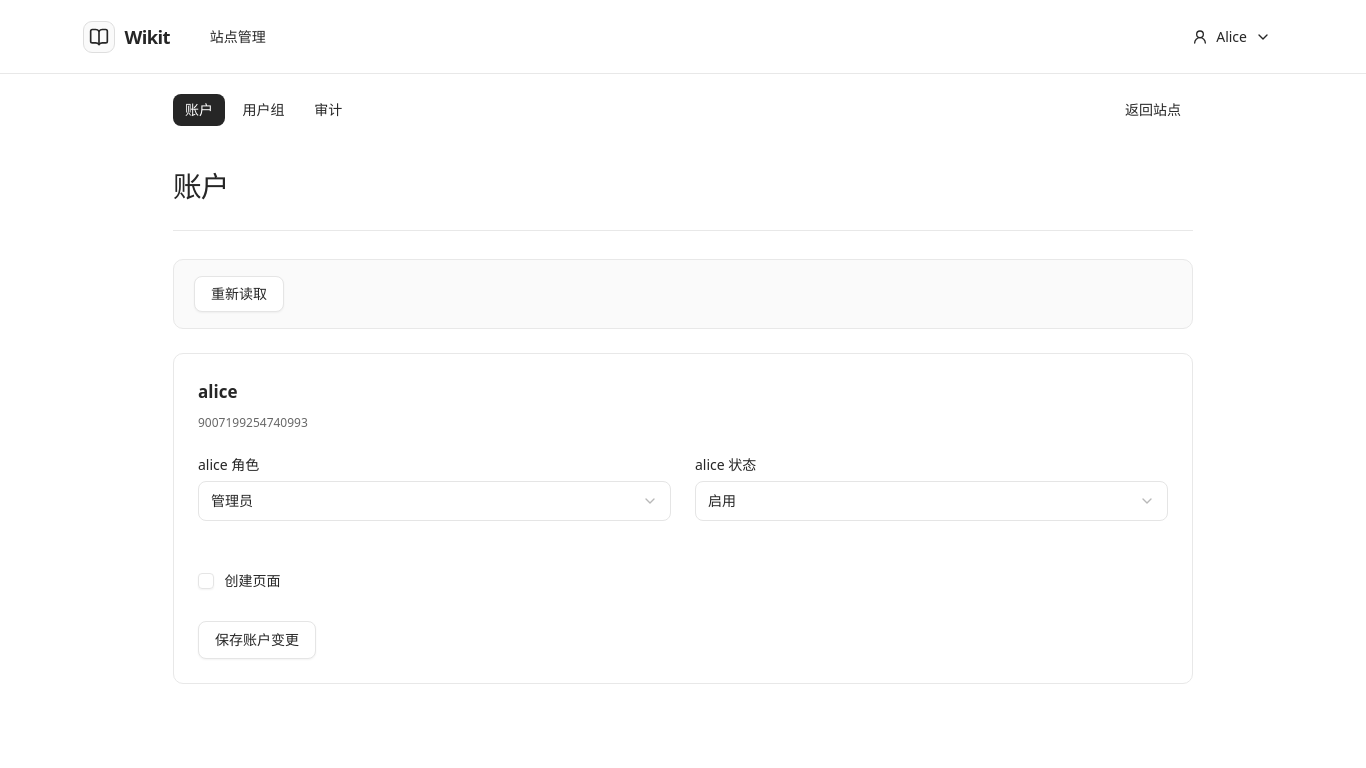
Scenario: edits account role and group members using server-provided version conditions
Expected: the heading "alice" is shown, x1=198 y1=380 x2=237 y2=403
Step 1. Click the dropdown named "alice 角色" → (232, 501), box x1=198 y1=481 x2=671 y2=521
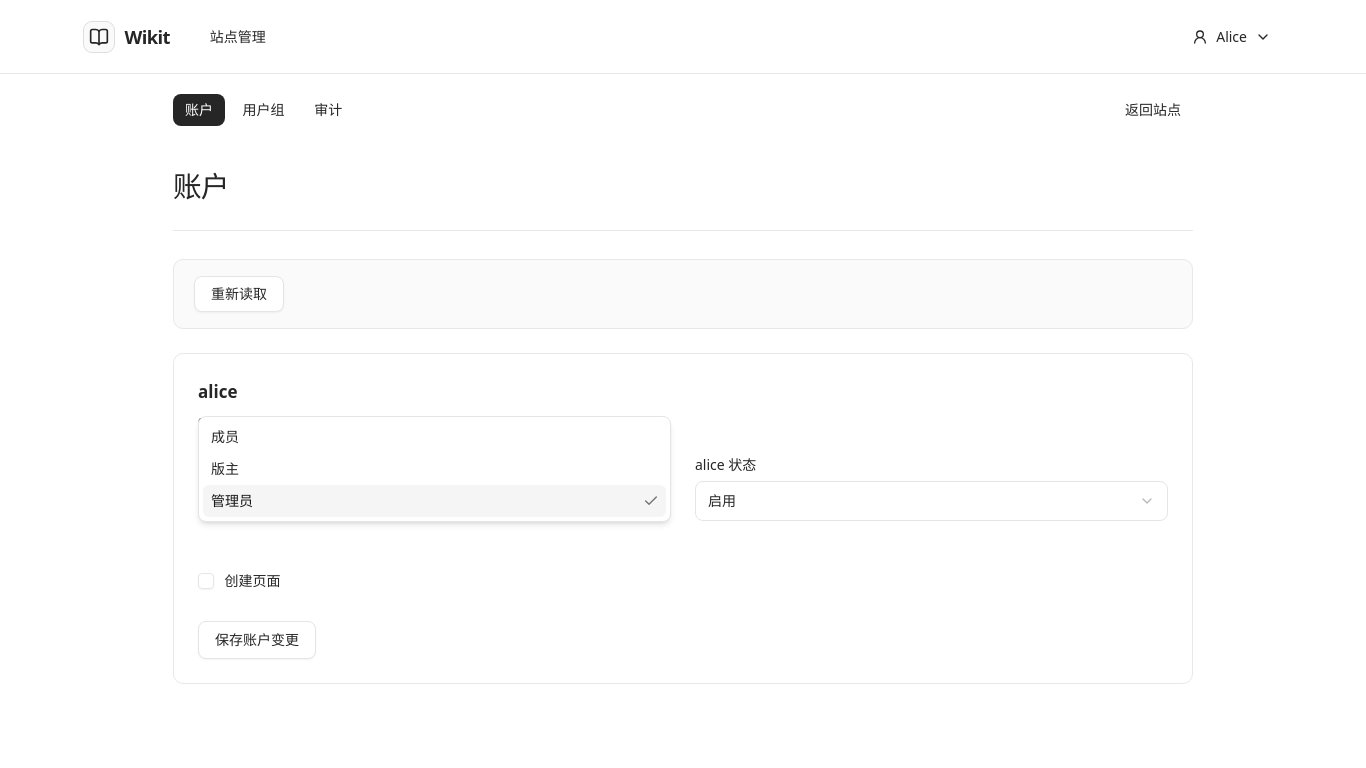
Step 2. Click the option "版主" → (225, 469), box x1=211 y1=459 x2=239 y2=478
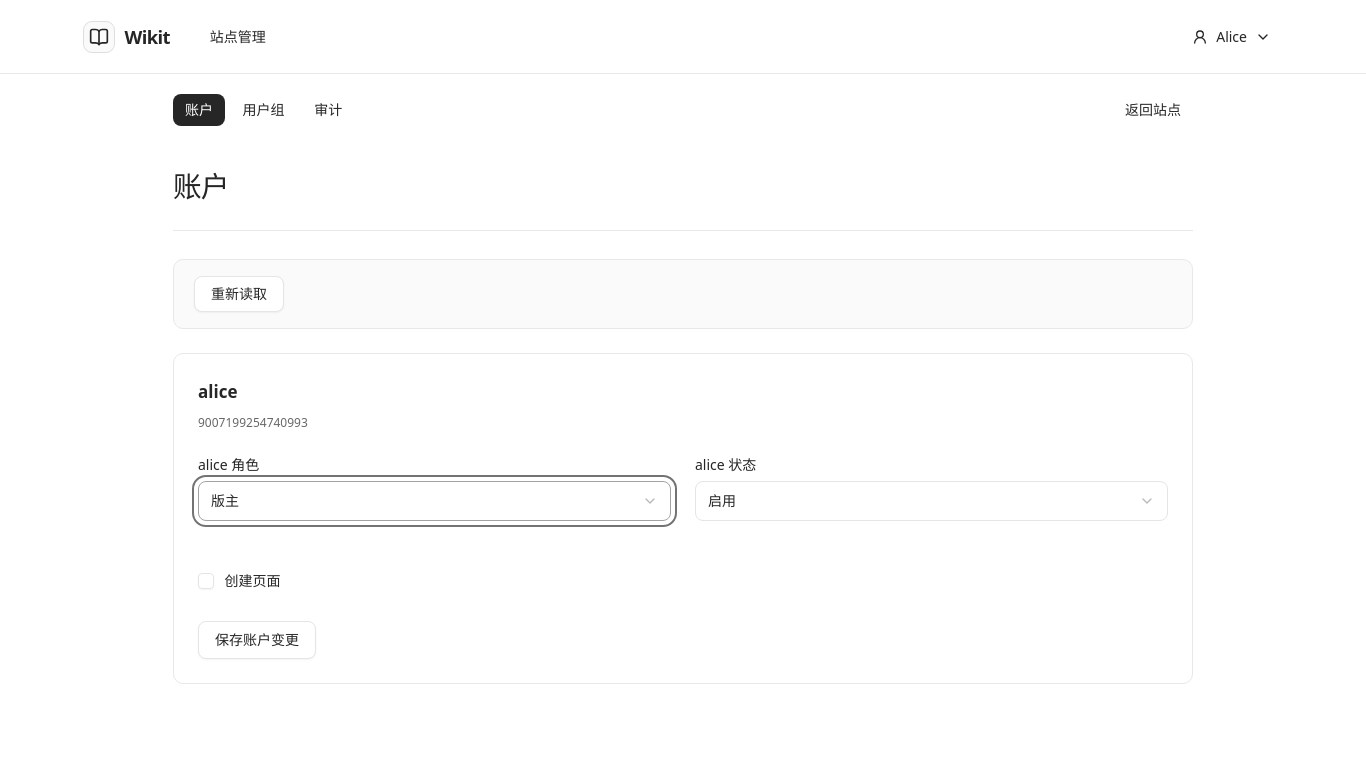
Step 3. Click the button "保存账户变更" → (257, 640), box x1=198 y1=621 x2=316 y2=659
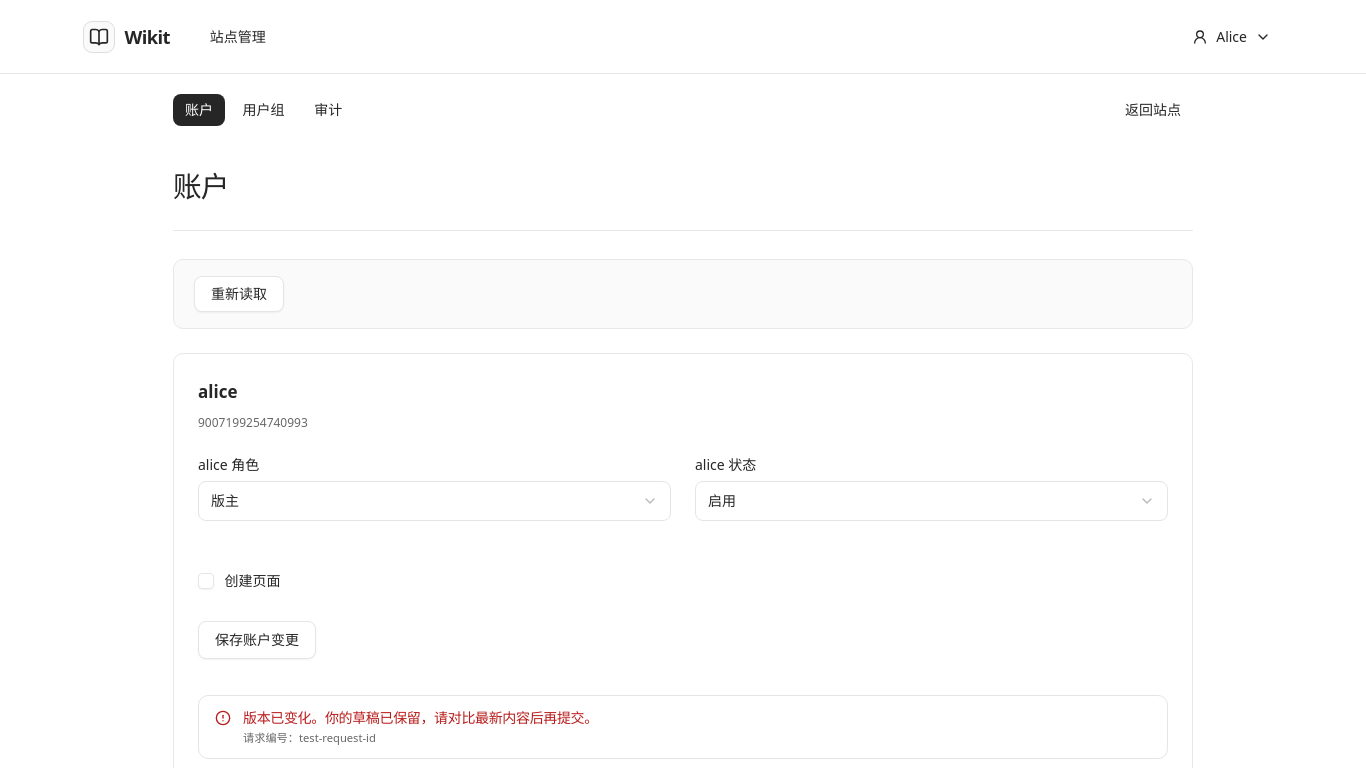
Expected: the text "版本已变化。你的草稿已保留，请对比最新内容后再提交。" is shown, x1=243 y1=708 x2=598 y2=727
Step 4. Click the link "用户组" → (264, 110), box x1=243 y1=100 x2=285 y2=119
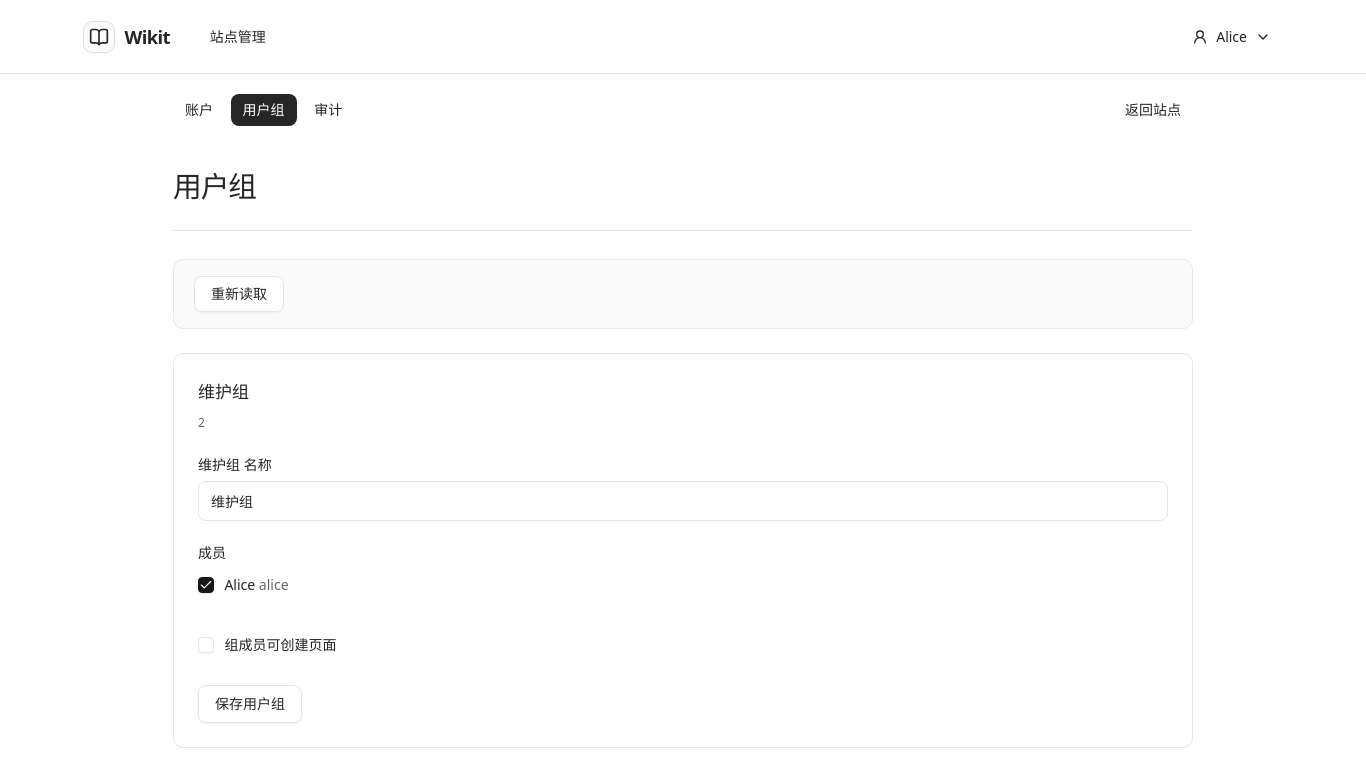
Expected: the heading "维护组" is shown, x1=198 y1=380 x2=249 y2=403
Step 5. Click the 1st checkbox named "alice" → (206, 585), box x1=198 y1=577 x2=214 y2=593
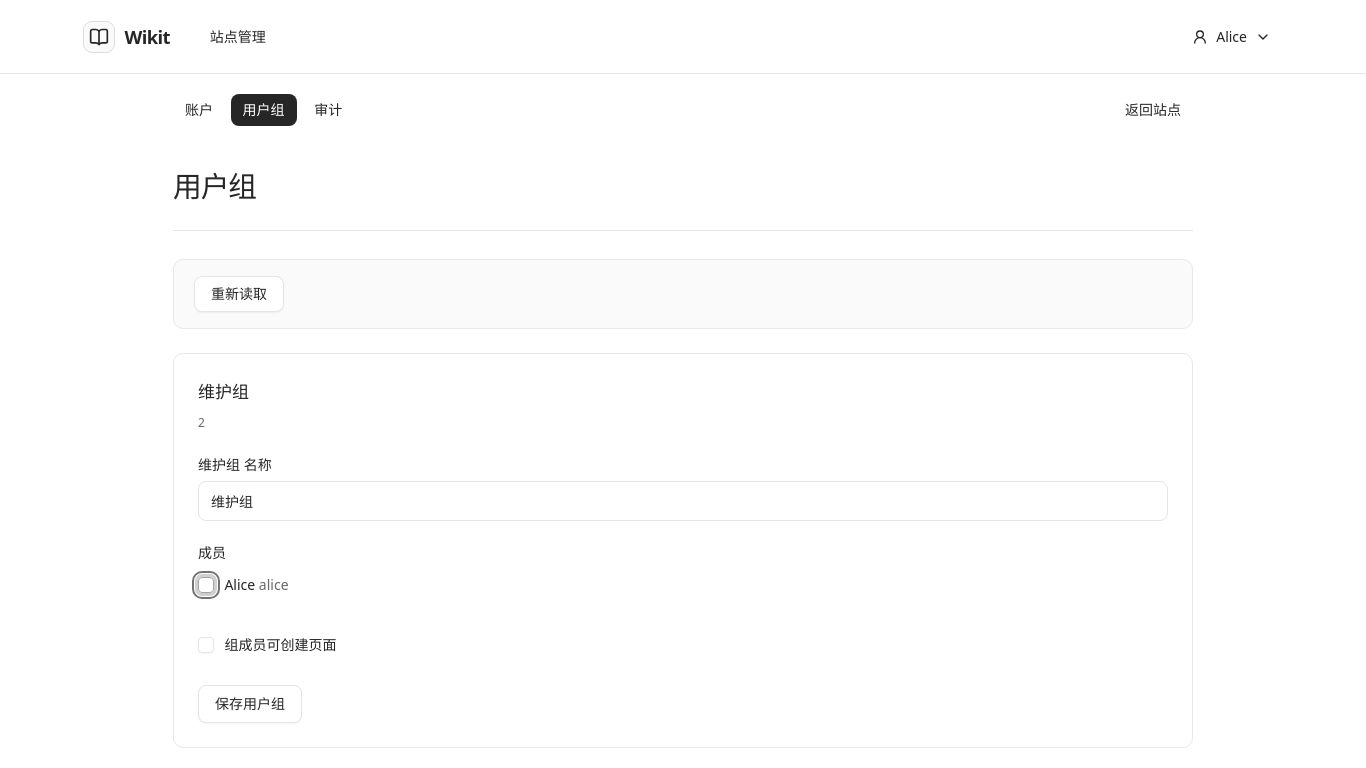
Step 6. Click the button "保存用户组" → (250, 704), box x1=198 y1=685 x2=302 y2=723
(page scrolled)
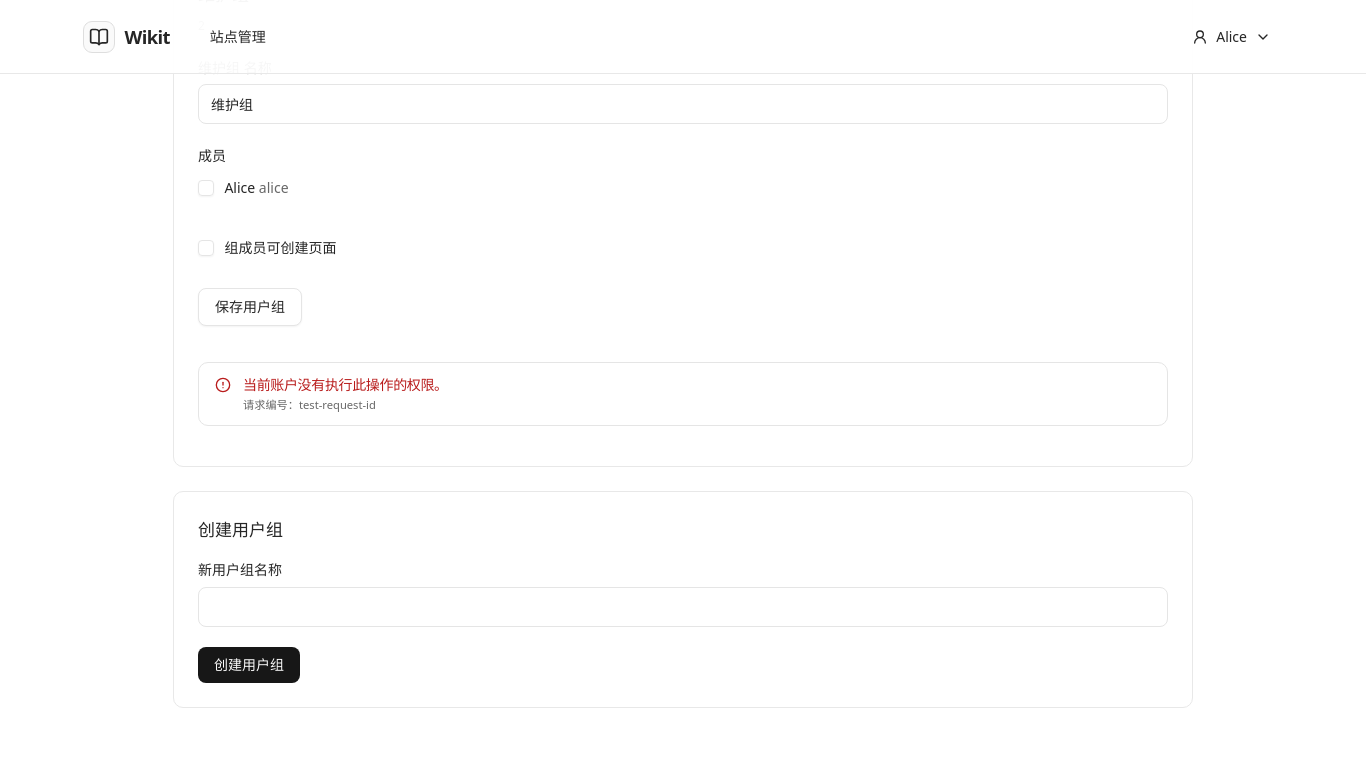
Expected: the text "当前账户没有执行此操作的权限。" is shown, x1=243 y1=375 x2=448 y2=394
